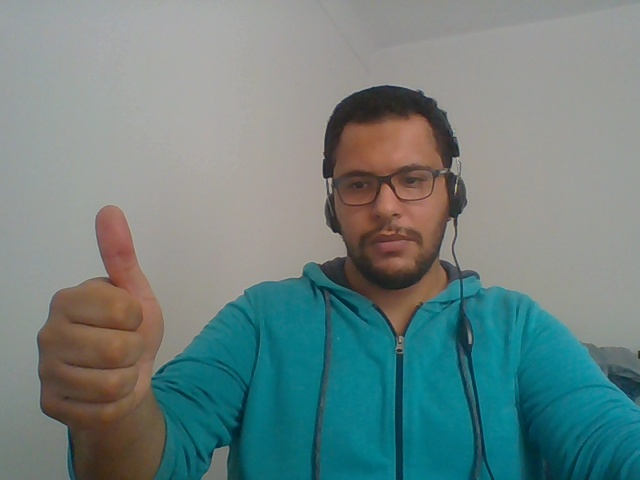ok: (25, 188, 186, 453)
